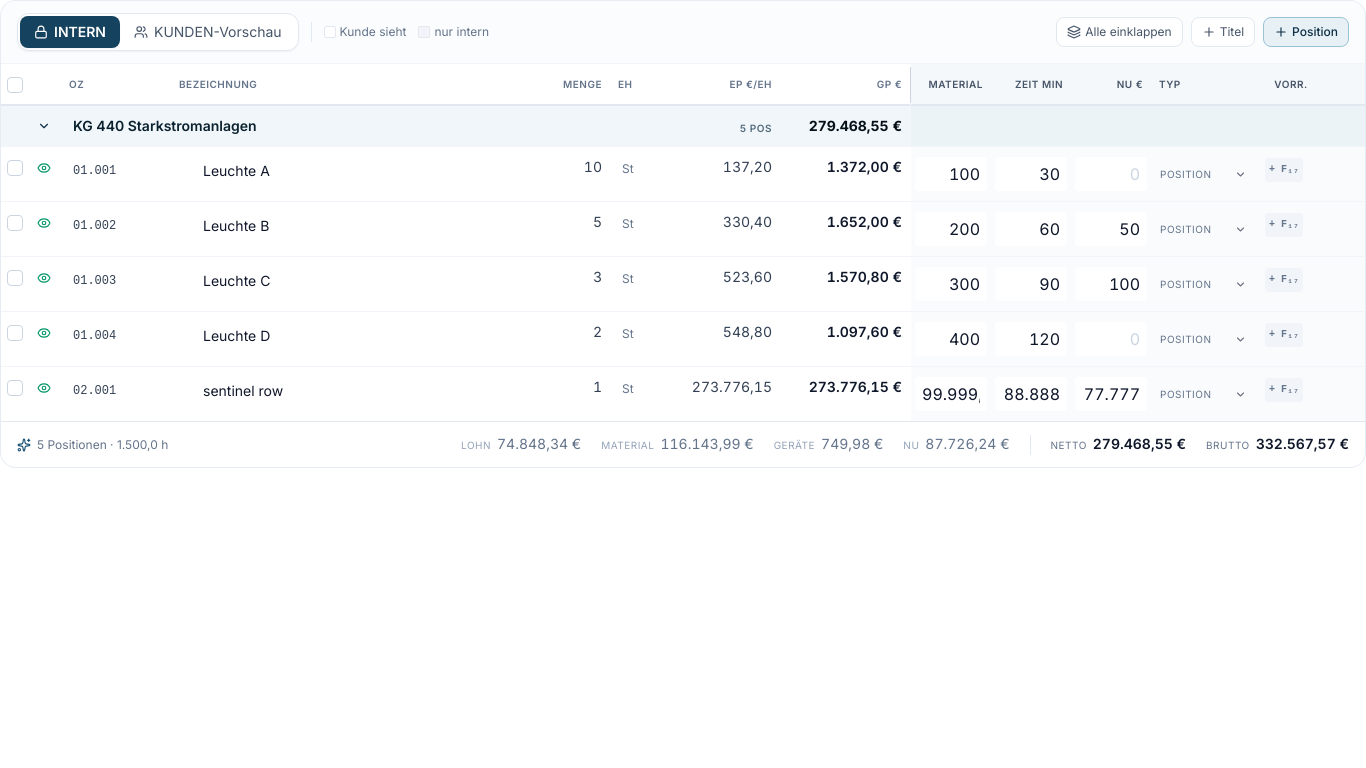
Scenario: PositionTableV2 bulk-edit — leak guard › Bulk-bar DOM does not leak internal sentinel material/time/nu values
The image size is (1366, 768).
Click the checkbox with test id "v2-select-row-r1" at (15, 168), box [7,160,23,176]
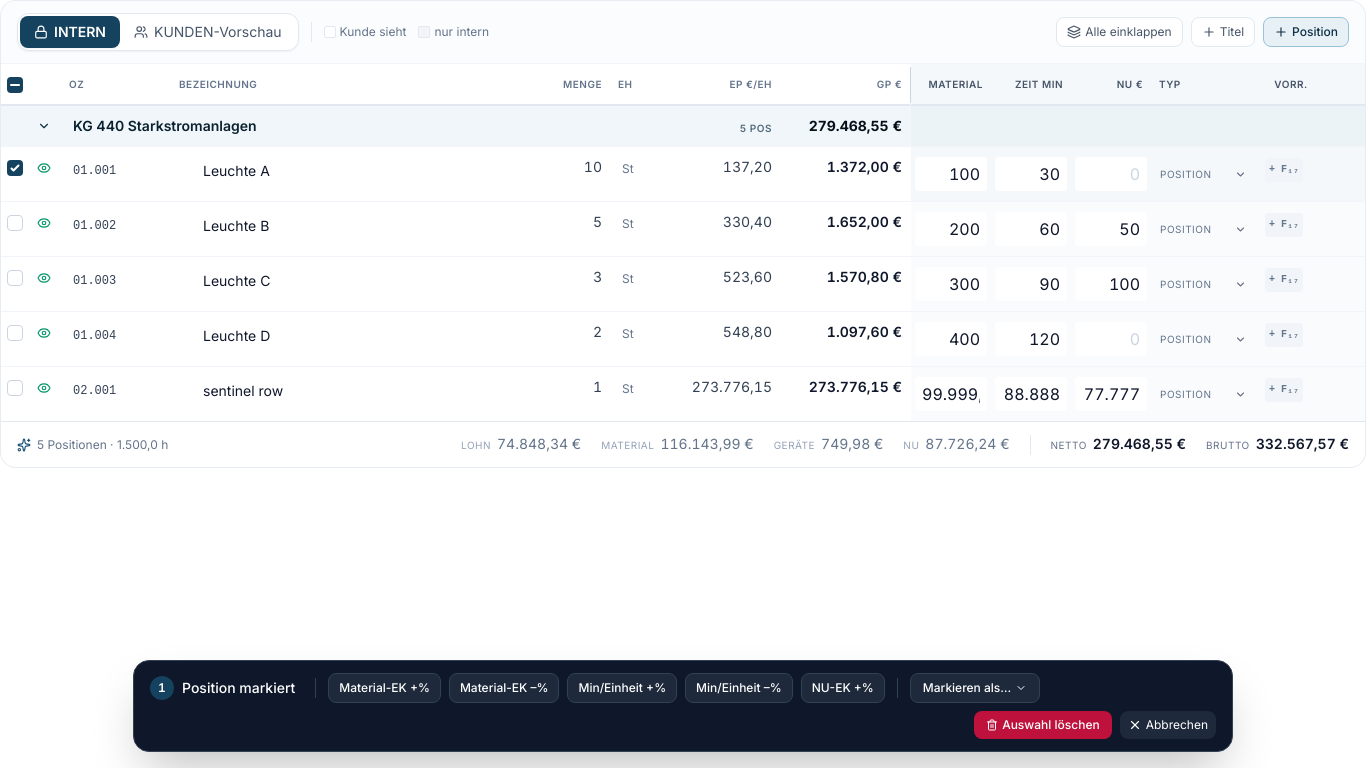
Click the checkbox with test id "v2-select-row-sentinel" at (15, 388), box [7,380,23,396]
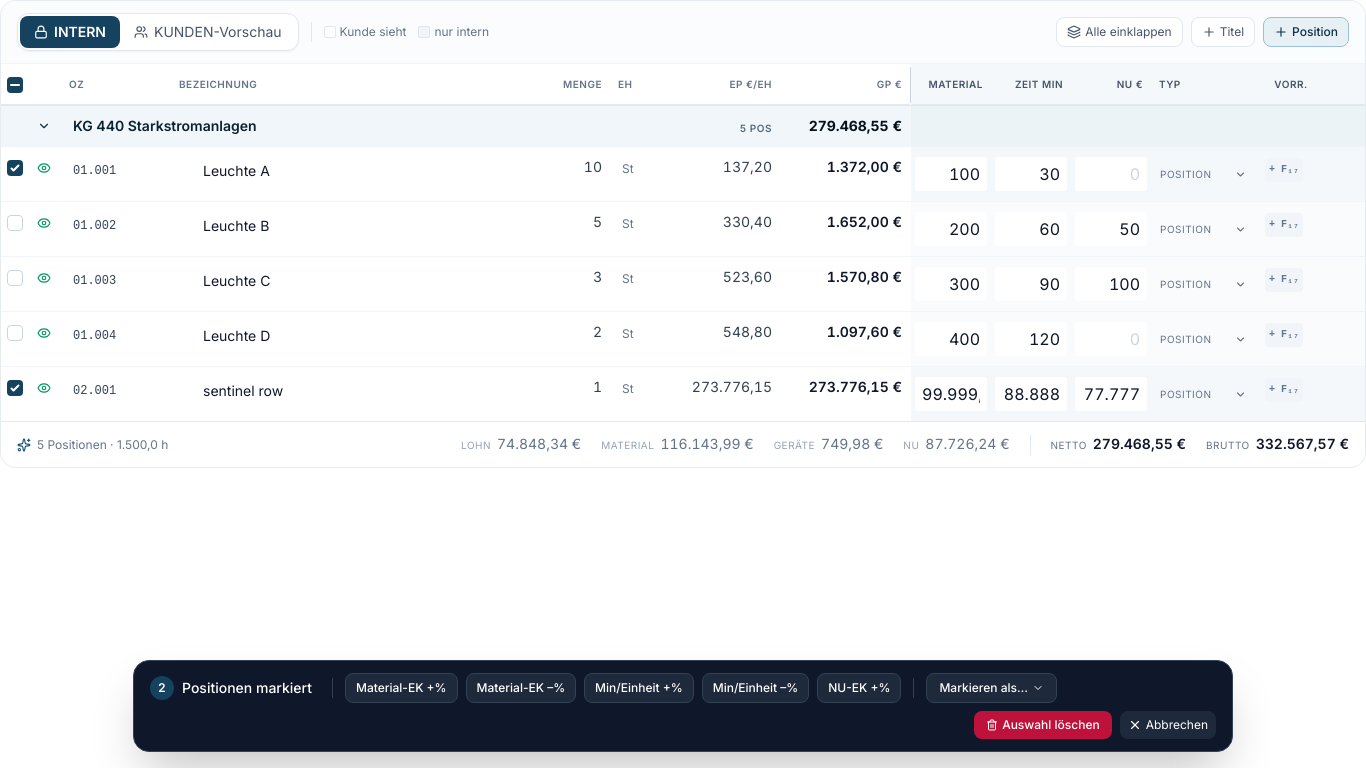
Check: the element with test id "v2-bulk-bar" shows "2", box [158,680,166,695]
